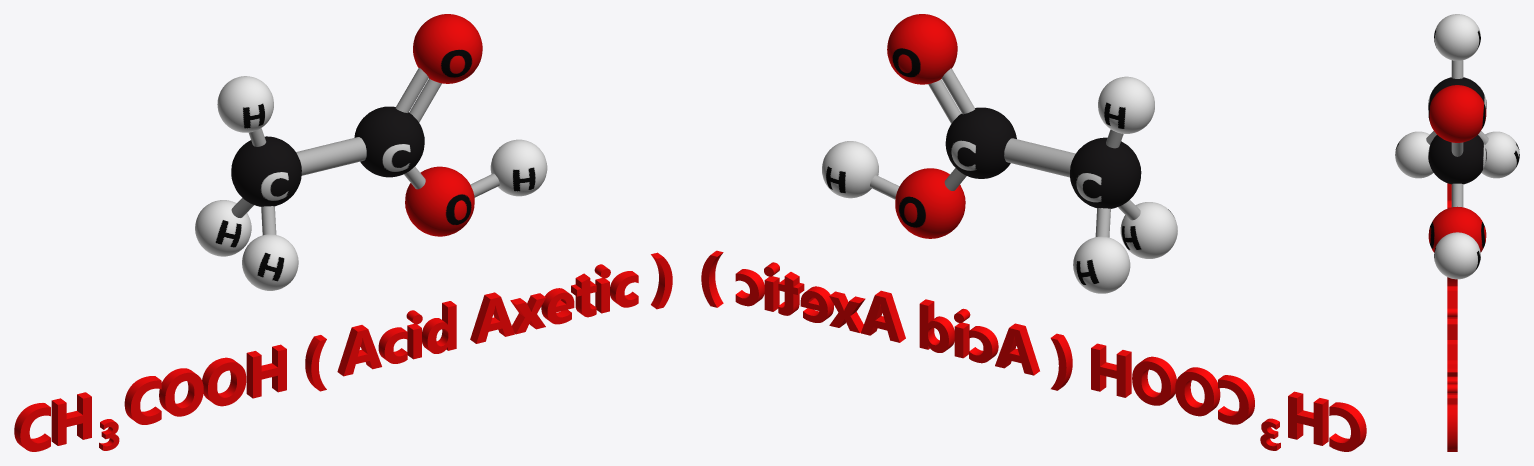
Rendered from acidaxetic.gltf.
The picture shows the model from 3 angles, left to right: view 1: azimuth 30°, elevation 25°; view 2: azimuth 150°, elevation 25°; view 3: azimuth 270°, elevation 25°; orthographic projection. The views are drawn at different scales.
Visible parts, largest first — view 1: Extrude, polySurface76, polySurface88_fracturepart, polySurface74_fracturepart, polySurface74_fracturepart_2, polySurface88_fracturepart_2, polySurface86_fracturepart_3, polySurface86_fracturepart_2, polySurface86_fracturepart_4, polySurface86_fracturepart; view 2: Extrude, polySurface76, polySurface74_fracturepart, polySurface88_fracturepart, polySurface74_fracturepart_2, polySurface88_fracturepart_2, polySurface86_fracturepart, polySurface86_fracturepart_3, polySurface86_fracturepart_4, polySurface86_fracturepart_2; view 3: polySurface74_fracturepart, polySurface88_fracturepart_2, Extrude, polySurface86_fracturepart_4, polySurface86_fracturepart_3, polySurface74_fracturepart_2, polySurface86_fracturepart, polySurface86_fracturepart_2, polySurface76, polySurface88_fracturepart.
Part boxes in pixels (box(x1,y1,x2,y2)): Extrude: box(14, 252, 672, 451); polySurface76: box(231, 68, 499, 235); polySurface88_fracturepart: box(231, 136, 301, 206); polySurface74_fracturepart: box(413, 14, 482, 83); polySurface74_fracturepart_2: box(405, 166, 474, 236); polySurface88_fracturepart_2: box(354, 106, 424, 177); polySurface86_fracturepart_3: box(217, 76, 273, 132); polySurface86_fracturepart_2: box(242, 234, 298, 290); polySurface86_fracturepart_4: box(490, 139, 547, 196); polySurface86_fracturepart: box(195, 200, 251, 256); Extrude: box(701, 250, 1366, 451); polySurface76: box(870, 68, 1140, 237); polySurface74_fracturepart: box(887, 14, 957, 84); polySurface88_fracturepart: box(1070, 137, 1141, 208); polySurface74_fracturepart_2: box(895, 168, 965, 238); polySurface88_fracturepart_2: box(945, 107, 1016, 178); polySurface86_fracturepart: box(1073, 236, 1130, 293); polySurface86_fracturepart_3: box(1098, 76, 1154, 133); polySurface86_fracturepart_4: box(822, 141, 878, 198); polySurface86_fracturepart_2: box(1120, 202, 1177, 258); polySurface74_fracturepart: box(1428, 85, 1486, 142); polySurface88_fracturepart_2: box(1428, 135, 1486, 184); Extrude: box(1447, 183, 1457, 451); polySurface86_fracturepart_4: box(1434, 232, 1480, 279); polySurface86_fracturepart_3: box(1434, 14, 1480, 60); polySurface74_fracturepart_2: box(1428, 206, 1486, 252); polySurface86_fracturepart: box(1481, 131, 1519, 178); polySurface86_fracturepart_2: box(1395, 131, 1433, 178); polySurface76: box(1426, 60, 1488, 207); polySurface88_fracturepart: box(1428, 77, 1486, 110).
Bounding box in the file's own units: 21.24 × 10.75 × 4.25.
Materials: 5 (3 with a texture image).
